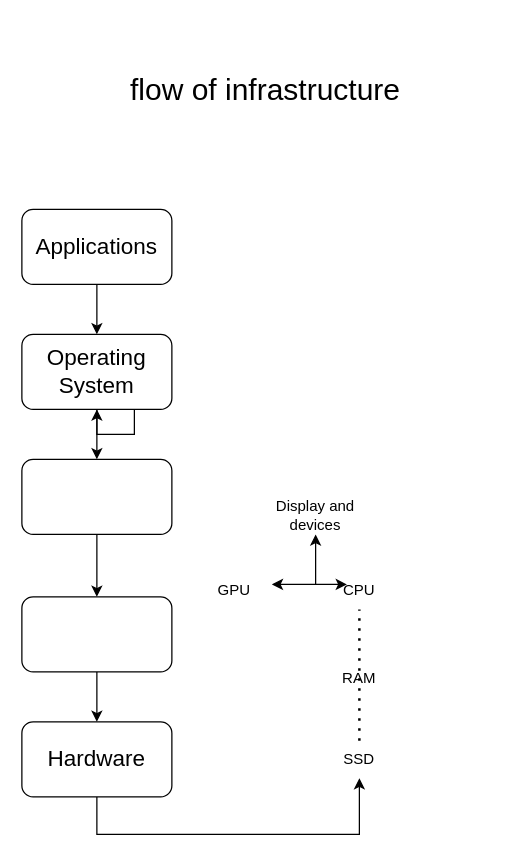
Some shapes in this 519 by 866 pixel diagram are drawn without their labels. The centre of each missing label's shape, as x and y in pixels:
"Drivers" belongs at [96,634].
"Kernel" belongs at [96,496].
